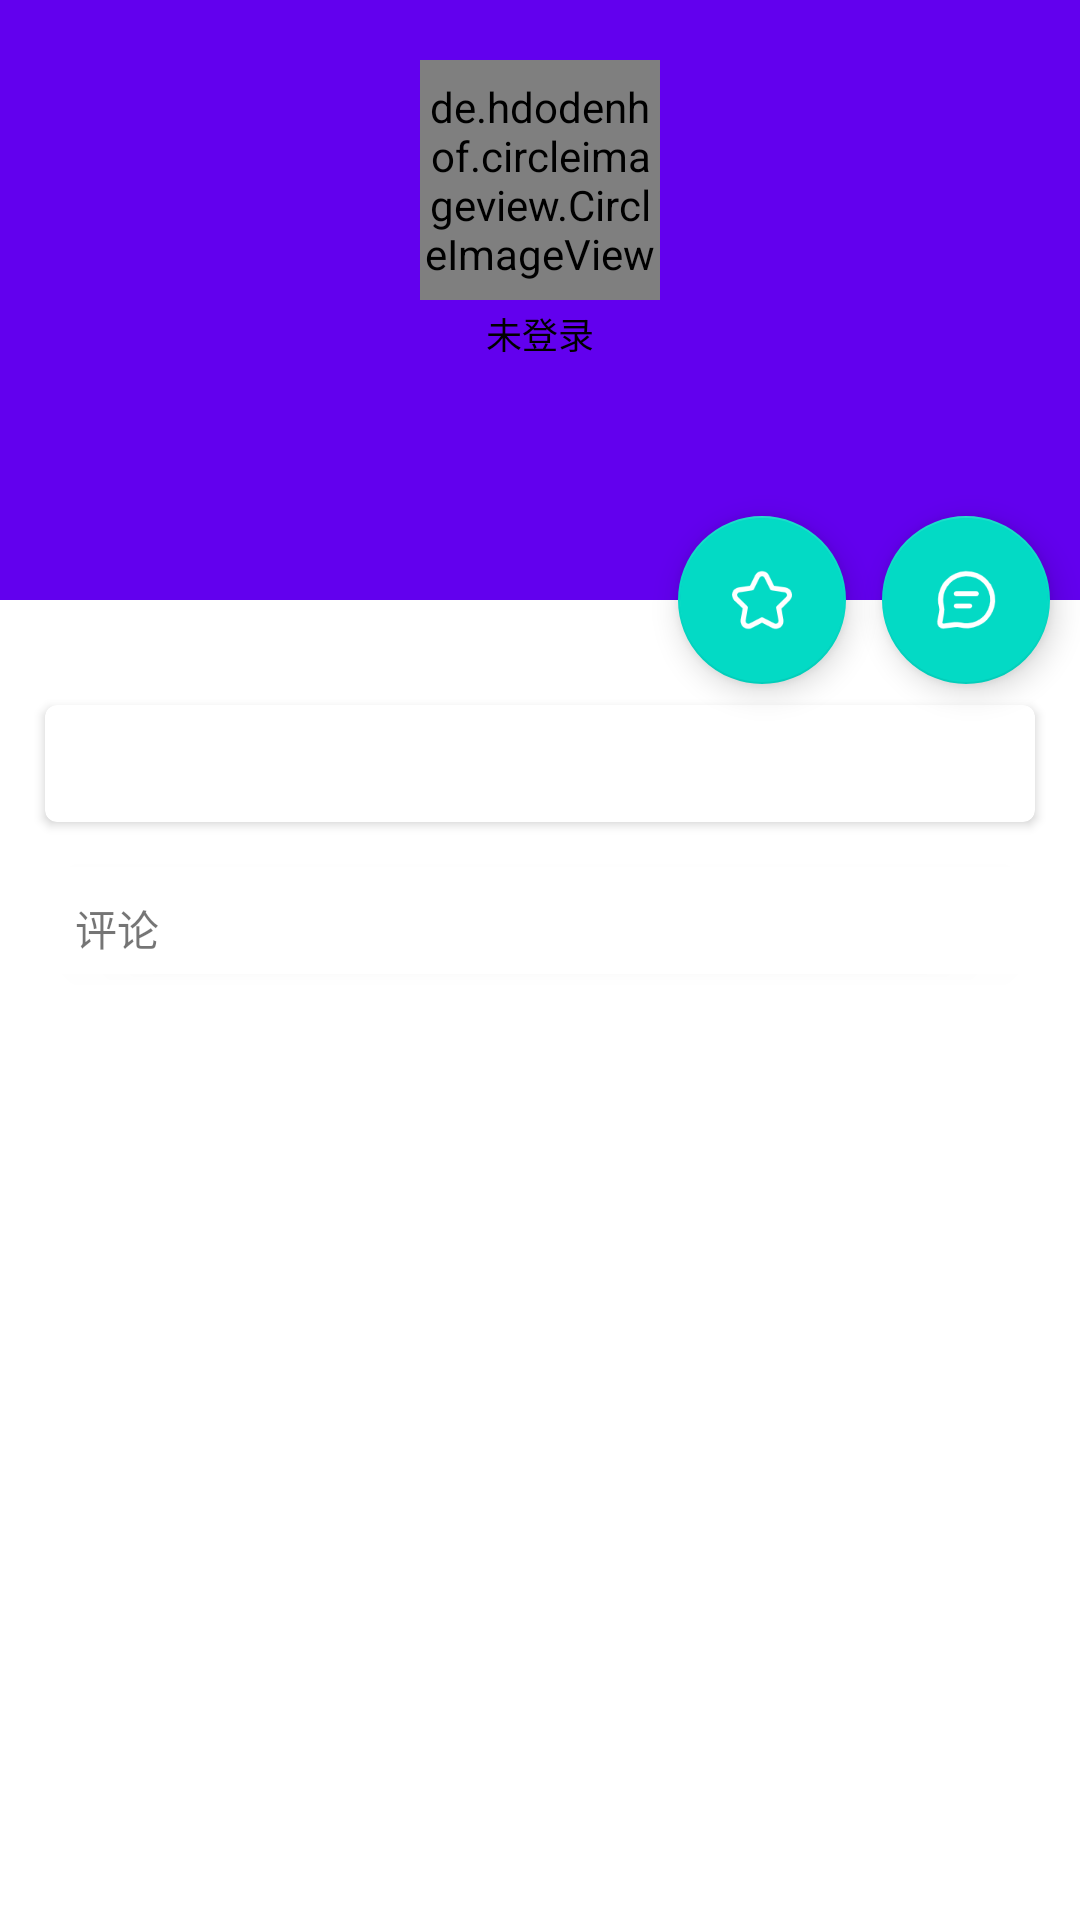

Icon click points for this 1080w x 1920h phone screenshot, format point (x, y):
collection: point (762, 600)
comment: point (966, 600)
